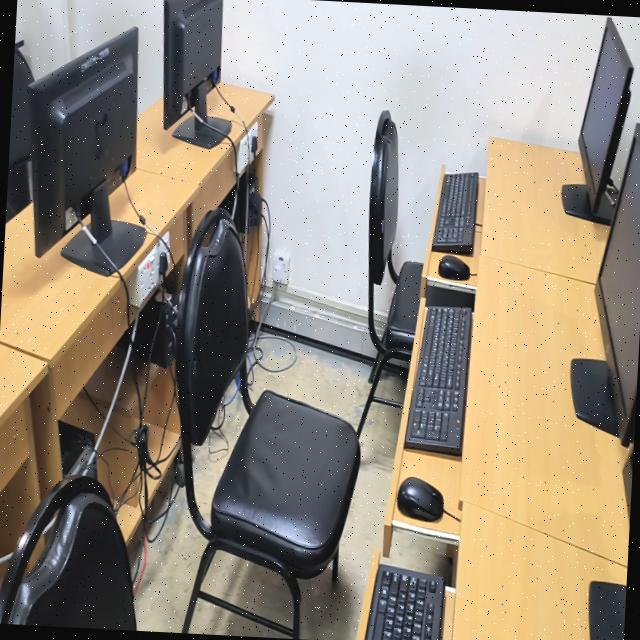Chair: (175, 207, 359, 639), (0, 473, 136, 631), (357, 109, 422, 434), (5, 40, 33, 221)
Cpu: (58, 420, 94, 476)
Keyboard: (404, 304, 471, 456), (363, 562, 444, 640), (431, 172, 477, 253)
Monitor: (29, 27, 145, 275), (569, 122, 640, 485), (561, 17, 632, 224), (163, 0, 230, 147), (588, 579, 627, 640), (622, 448, 634, 533)
Mouse: (397, 476, 443, 521), (438, 254, 469, 279)
